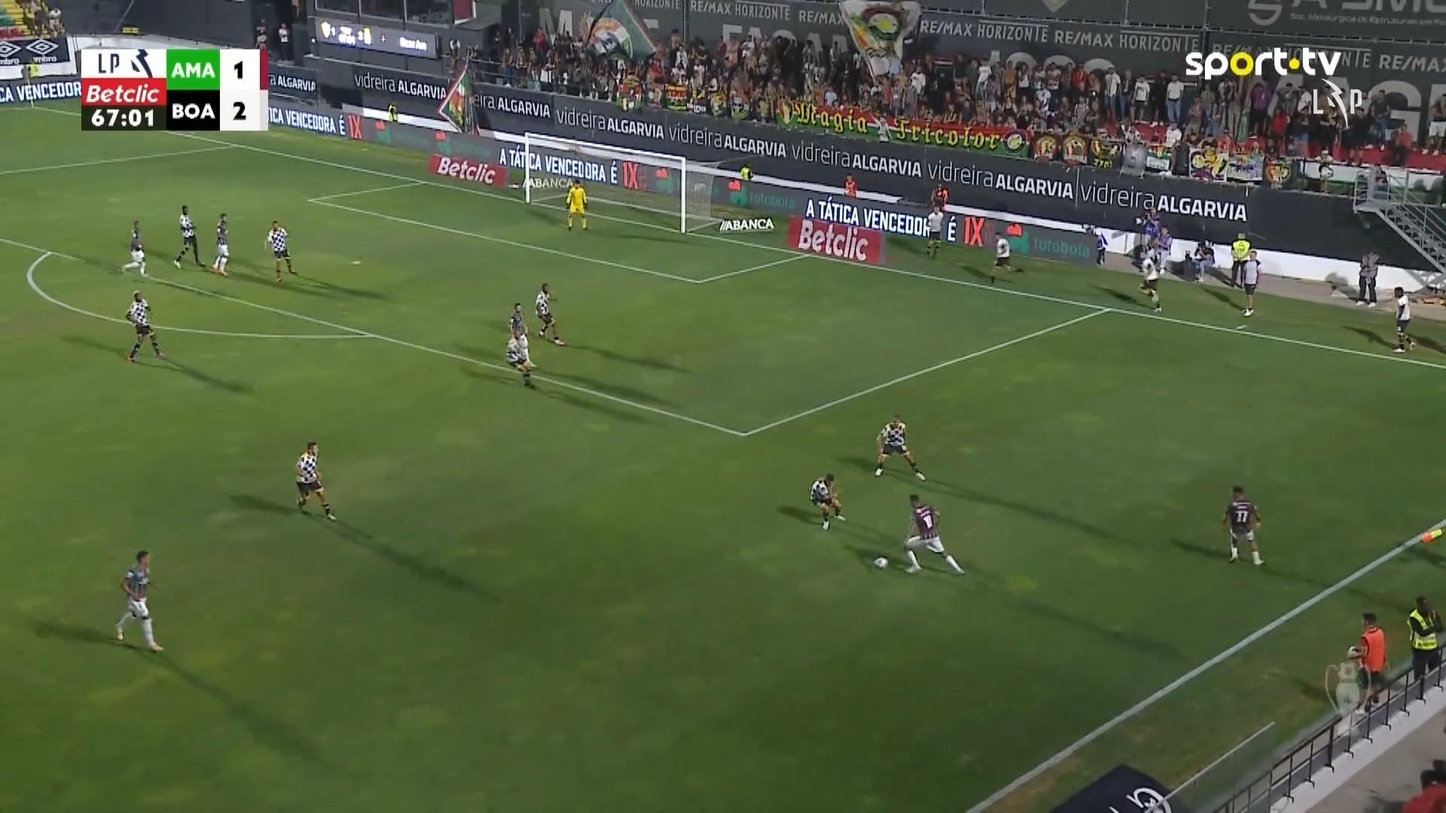ball: (874, 556, 887, 568)
goalkeeper: (564, 179, 589, 230)
player: (902, 492, 965, 575), (114, 549, 164, 652), (873, 413, 926, 480), (294, 441, 337, 522), (1221, 485, 1264, 566), (124, 290, 165, 363), (809, 472, 847, 531), (172, 204, 206, 269), (264, 219, 296, 282), (534, 282, 564, 345), (505, 328, 535, 385), (121, 219, 148, 276), (211, 212, 230, 276), (507, 301, 529, 341)
